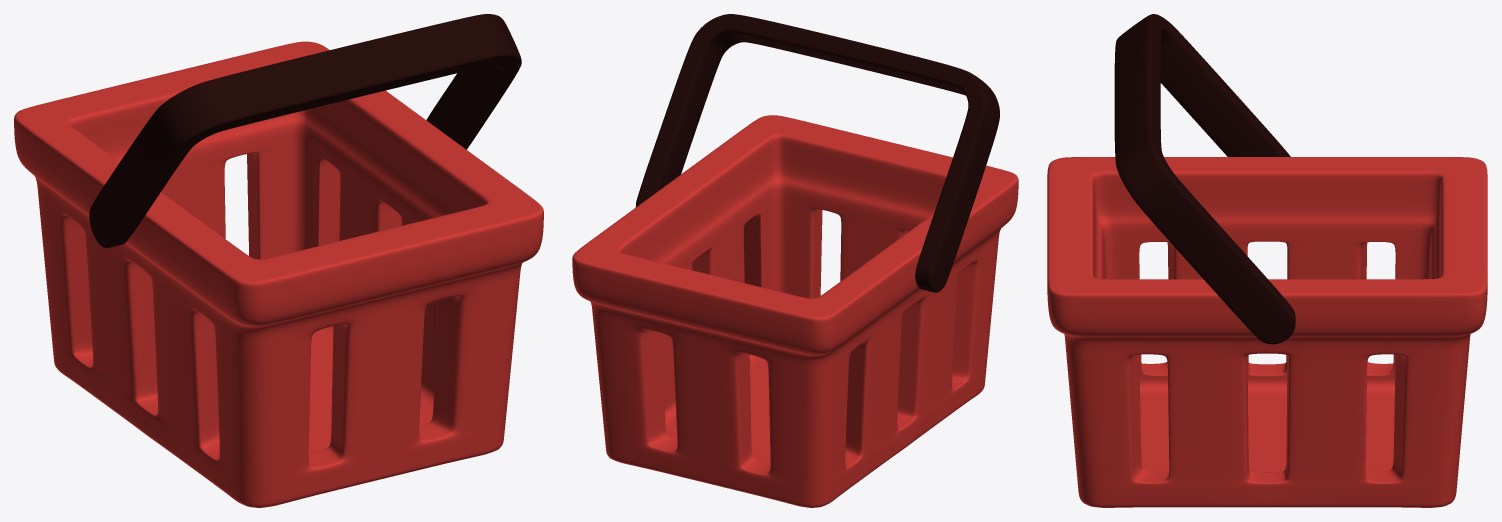
The model's file is Shopping Basket.glb.
3 renders of one model, left to right at view 1: azimuth 30°, elevation 25°; view 2: azimuth 150°, elevation 25°; view 3: azimuth 270°, elevation 25°, orthographic. The views are drawn at different scales.
Parts seen in each view (by area): view 1: Cube; view 2: Cube; view 3: Cube.
Part boxes in pixels (box(x1,y1,x2,y2)): Cube: box(14, 14, 543, 507); Cube: box(572, 14, 1018, 507); Cube: box(1047, 14, 1487, 507).
Size of the model in its own units: 0.3664 by 0.4057 by 0.4306.
